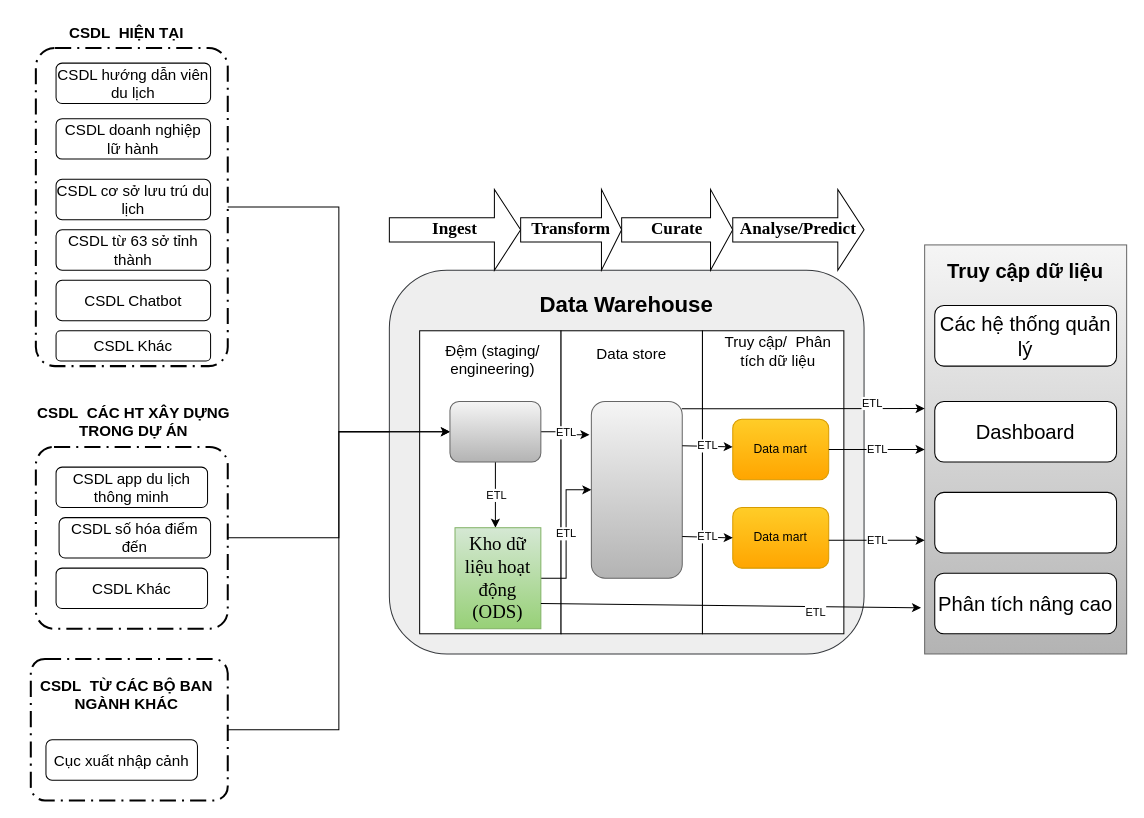
The diagram is 1144 pixels wide and 818 high, and some of its shapes have lost their labels. The box of each missing label's shape, as (x1, y1, x2, y2) in pixels:
Kho dữ liệu: (590, 400, 682, 578)
staging area: (449, 400, 541, 462)
Web service: (934, 491, 1117, 553)
